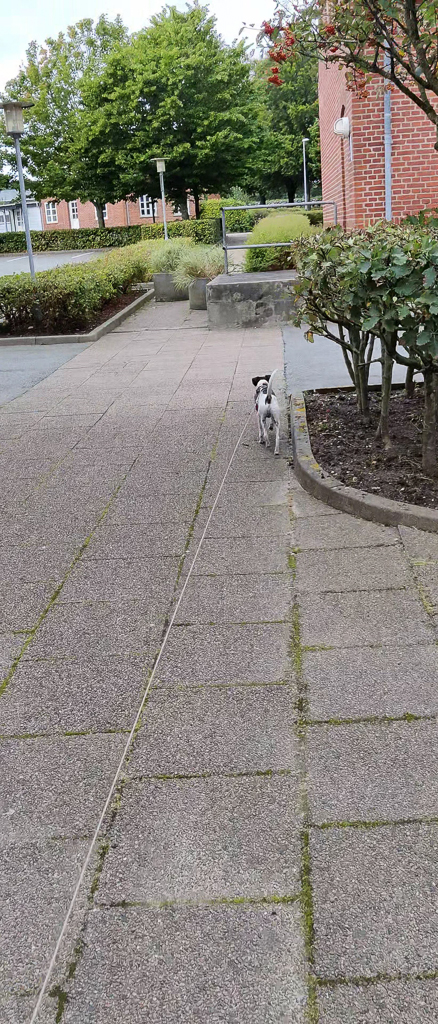Dog: (238, 361, 292, 468)
